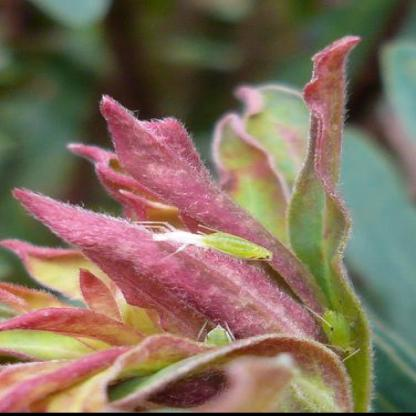aphid: (187, 218, 286, 266), (308, 300, 378, 364), (174, 310, 242, 354)
